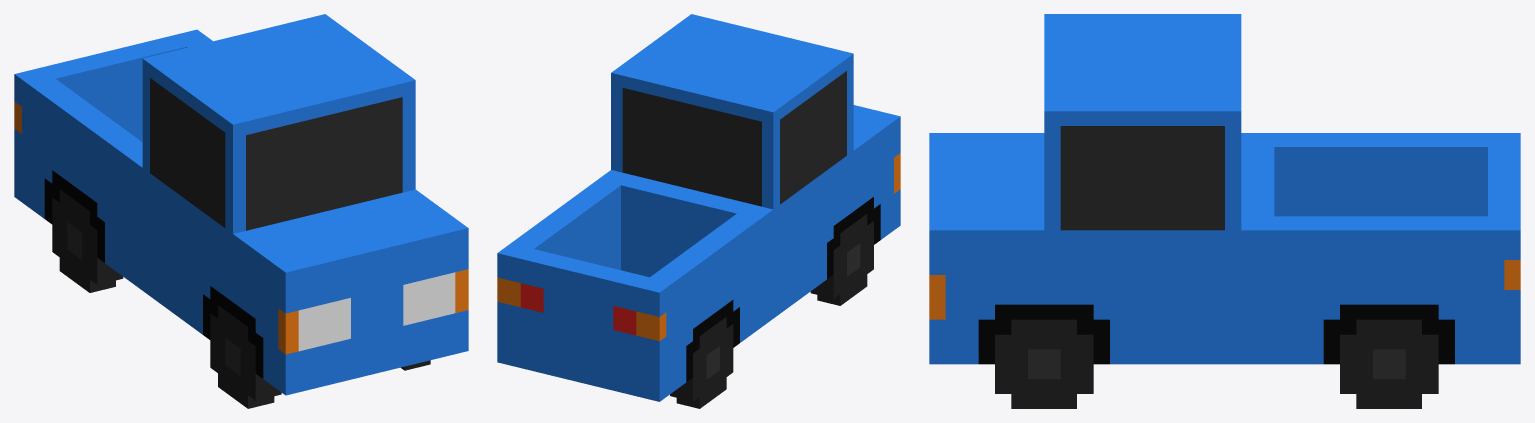
The model's file is kit-voxel-truck-blue.glb.
3 renders of one model, left to right at view 1: azimuth 30°, elevation 25°; view 2: azimuth 150°, elevation 25°; view 3: azimuth 270°, elevation 25°, orthographic. The views are drawn at different scales.
Parts seen in each view (by area): view 1: geometry_1; view 2: geometry_1; view 3: geometry_1.
Boxes of the visible parts, x1,y1,x2,y2 form: geometry_1: [14, 14, 468, 408]; geometry_1: [497, 14, 900, 408]; geometry_1: [929, 14, 1520, 408].
Bounding box in the file's own units: 1.4 × 2 × 3.6.
1 material, 1 textured.
